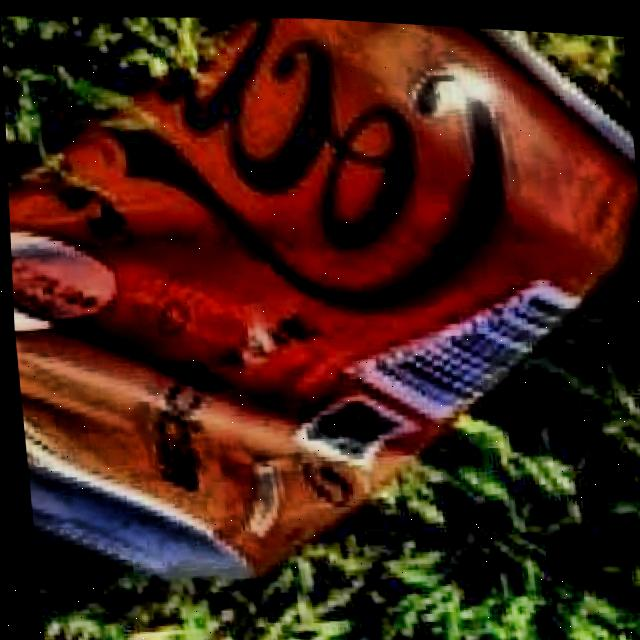metal: (7, 15, 638, 584)
